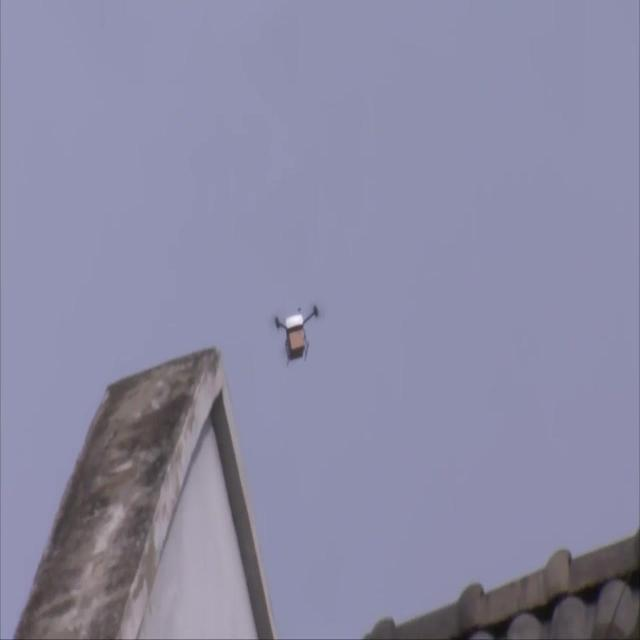drone: (272, 301, 320, 368)
